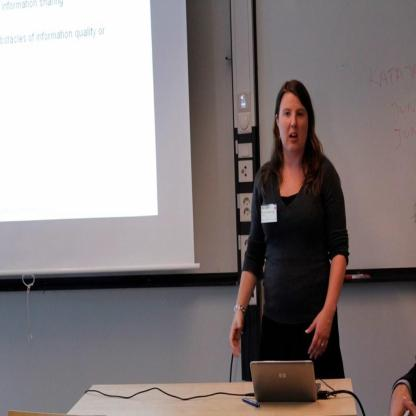board: (250, 362, 322, 403)
